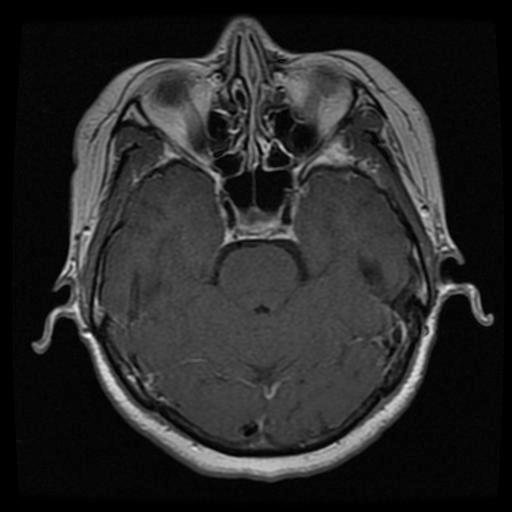Tumour-Pituitary: (216, 186, 304, 250)
